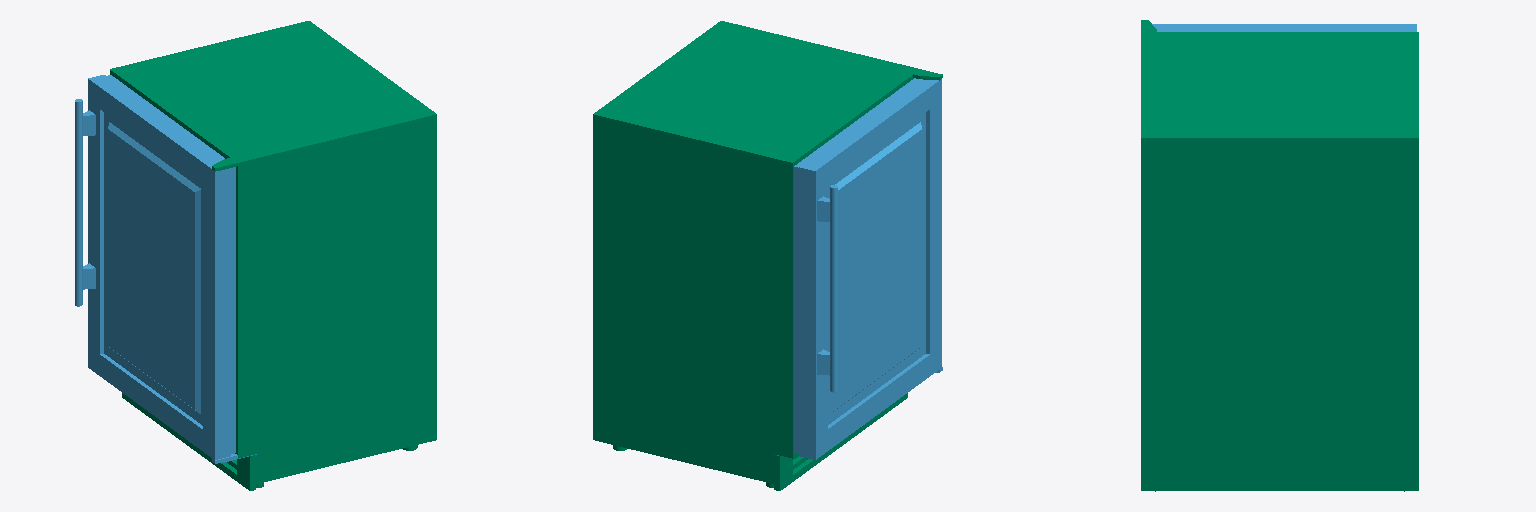
robot.urdf — partnet_7028b24b7d64efaf3194539af1047dcf:
<?xml version="1.0" ?>
<robot name="partnet_7028b24b7d64efaf3194539af1047dcf">
	<link name="base"/>
	<link name="link_0">
		<visual name="door_frame_10">
			<origin xyz="-0.511112457240624 -0.7355 -0.49444429491836783"/>
			<geometry>
				<mesh filename="textured_objs/original_5.obj"/>
			</geometry>
		</visual>
		<visual name="door_frame_10">
			<origin xyz="-0.511112457240624 -0.7355 -0.49444429491836783"/>
			<geometry>
				<mesh filename="textured_objs/original_13.obj"/>
			</geometry>
		</visual>
		<visual name="door_frame_10">
			<origin xyz="-0.511112457240624 -0.7355 -0.49444429491836783"/>
			<geometry>
				<mesh filename="textured_objs/original_4.obj"/>
			</geometry>
		</visual>
		<visual name="door_frame_10">
			<origin xyz="-0.511112457240624 -0.7355 -0.49444429491836783"/>
			<geometry>
				<mesh filename="textured_objs/original_3.obj"/>
			</geometry>
		</visual>
		<visual name="door_frame_10">
			<origin xyz="-0.511112457240624 -0.7355 -0.49444429491836783"/>
			<geometry>
				<mesh filename="textured_objs/original_11.obj"/>
			</geometry>
		</visual>
		<visual name="door_frame_10">
			<origin xyz="-0.511112457240624 -0.7355 -0.49444429491836783"/>
			<geometry>
				<mesh filename="textured_objs/original_12.obj"/>
			</geometry>
		</visual>
		<visual name="handle_11">
			<origin xyz="-0.511112457240624 -0.7355 -0.49444429491836783"/>
			<geometry>
				<mesh filename="textured_objs/original_15.obj"/>
			</geometry>
		</visual>
		<visual name="handle_11">
			<origin xyz="-0.511112457240624 -0.7355 -0.49444429491836783"/>
			<geometry>
				<mesh filename="textured_objs/original_16.obj"/>
			</geometry>
		</visual>
		<visual name="handle_11">
			<origin xyz="-0.511112457240624 -0.7355 -0.49444429491836783"/>
			<geometry>
				<mesh filename="textured_objs/original_14.obj"/>
			</geometry>
		</visual>
		<collision>
			<origin xyz="-0.511112457240624 -0.7355 -0.49444429491836783"/>
			<geometry>
				<mesh filename="textured_objs/original_5.obj"/>
			</geometry>
		</collision>
		<collision>
			<origin xyz="-0.511112457240624 -0.7355 -0.49444429491836783"/>
			<geometry>
				<mesh filename="textured_objs/original_13.obj"/>
			</geometry>
		</collision>
		<collision>
			<origin xyz="-0.511112457240624 -0.7355 -0.49444429491836783"/>
			<geometry>
				<mesh filename="textured_objs/original_4.obj"/>
			</geometry>
		</collision>
		<collision>
			<origin xyz="-0.511112457240624 -0.7355 -0.49444429491836783"/>
			<geometry>
				<mesh filename="textured_objs/original_3.obj"/>
			</geometry>
		</collision>
		<collision>
			<origin xyz="-0.511112457240624 -0.7355 -0.49444429491836783"/>
			<geometry>
				<mesh filename="textured_objs/original_11.obj"/>
			</geometry>
		</collision>
		<collision>
			<origin xyz="-0.511112457240624 -0.7355 -0.49444429491836783"/>
			<geometry>
				<mesh filename="textured_objs/original_12.obj"/>
			</geometry>
		</collision>
		<collision>
			<origin xyz="-0.511112457240624 -0.7355 -0.49444429491836783"/>
			<geometry>
				<mesh filename="textured_objs/original_15.obj"/>
			</geometry>
		</collision>
		<collision>
			<origin xyz="-0.511112457240624 -0.7355 -0.49444429491836783"/>
			<geometry>
				<mesh filename="textured_objs/original_16.obj"/>
			</geometry>
		</collision>
		<collision>
			<origin xyz="-0.511112457240624 -0.7355 -0.49444429491836783"/>
			<geometry>
				<mesh filename="textured_objs/original_14.obj"/>
			</geometry>
		</collision>
	</link>
	<joint name="joint_0" type="revolute">
		<origin xyz="0.511112457240624 0.7355 0.49444429491836783"/>
		<axis xyz="0 1 0"/>
		<child link="link_0"/>
		<parent link="link_1"/>
		<limit lower="-0.0" upper="3.141592653589793"/>
	</joint>
	<link name="link_1">
		<visual name="frame_8">
			<origin xyz="0 0 0"/>
			<geometry>
				<mesh filename="textured_objs/new_1.obj"/>
			</geometry>
		</visual>
		<visual name="frame_8">
			<origin xyz="0 0 0"/>
			<geometry>
				<mesh filename="textured_objs/new_0.obj"/>
			</geometry>
		</visual>
		<visual name="foot_12">
			<origin xyz="0 0 0"/>
			<geometry>
				<mesh filename="textured_objs/original_19.obj"/>
			</geometry>
		</visual>
		<visual name="foot_13">
			<origin xyz="0 0 0"/>
			<geometry>
				<mesh filename="textured_objs/original_20.obj"/>
			</geometry>
		</visual>
		<visual name="foot_14">
			<origin xyz="0 0 0"/>
			<geometry>
				<mesh filename="textured_objs/original_18.obj"/>
			</geometry>
		</visual>
		<visual name="foot_15">
			<origin xyz="0 0 0"/>
			<geometry>
				<mesh filename="textured_objs/original_17.obj"/>
			</geometry>
		</visual>
		<collision>
			<origin xyz="0 0 0"/>
			<geometry>
				<mesh filename="textured_objs/new_1.obj"/>
			</geometry>
		</collision>
		<collision>
			<origin xyz="0 0 0"/>
			<geometry>
				<mesh filename="textured_objs/new_0.obj"/>
			</geometry>
		</collision>
		<collision>
			<origin xyz="0 0 0"/>
			<geometry>
				<mesh filename="textured_objs/original_19.obj"/>
			</geometry>
		</collision>
		<collision>
			<origin xyz="0 0 0"/>
			<geometry>
				<mesh filename="textured_objs/original_20.obj"/>
			</geometry>
		</collision>
		<collision>
			<origin xyz="0 0 0"/>
			<geometry>
				<mesh filename="textured_objs/original_18.obj"/>
			</geometry>
		</collision>
		<collision>
			<origin xyz="0 0 0"/>
			<geometry>
				<mesh filename="textured_objs/original_17.obj"/>
			</geometry>
		</collision>
	</link>
	<joint name="joint_1" type="fixed">
		<origin rpy="1.570796326794897 0 -1.570796326794897" xyz="0 0 0"/>
		<child link="link_1"/>
		<parent link="base"/>
	</joint>
</robot>

--- Render facts (derived) ---
3 views of the same robot in one strip: view 1: azimuth 30°, elevation 25°; view 2: azimuth 150°, elevation 25°; view 3: azimuth 270°, elevation 25° (orthographic).
Robot: partnet_7028b24b7d64efaf3194539af1047dcf — 3 links, 2 joints (1 revolute, 1 fixed); root link base; default pose: every joint at zero.
Visible links, largest first — view 1: link_1, link_0; view 2: link_1, link_0; view 3: link_1, link_0.
Link boxes in pixels (x1,y1,x2,y2): link_1: [110, 21, 436, 490]; link_0: [75, 75, 256, 463]; link_1: [593, 21, 942, 490]; link_0: [794, 78, 942, 459]; link_1: [1141, 20, 1418, 491]; link_0: [1152, 24, 1416, 31].
Size in the robot's own frame: 1.15 by 1.06 by 1.53 metres.
Meshes: 15 distinct files referenced, 15 mesh visuals loaded (15 OBJ).
